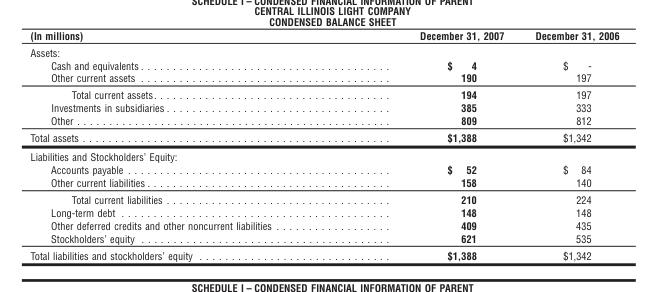table: (29, 28, 618, 261)
table column: (29, 28, 344, 261), (344, 28, 518, 261), (518, 28, 618, 261)
table column header: (29, 28, 618, 43)
table projected row header: (29, 146, 618, 162), (29, 43, 618, 58)
table row: (29, 128, 618, 146), (29, 146, 618, 162), (29, 28, 618, 43), (29, 43, 618, 58), (29, 71, 618, 86), (29, 113, 618, 128), (29, 175, 618, 190), (29, 190, 618, 205), (29, 231, 618, 246), (29, 246, 618, 261), (29, 86, 618, 100), (29, 58, 618, 71), (29, 100, 618, 113), (29, 162, 618, 175), (29, 205, 618, 218), (29, 218, 618, 231)
